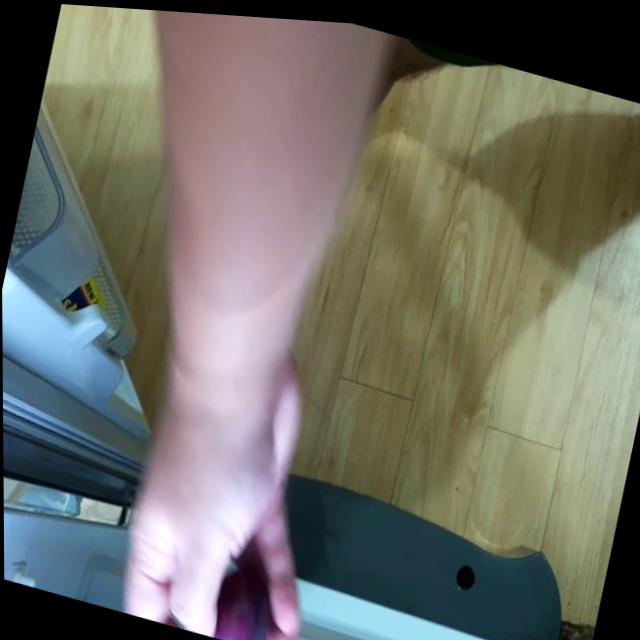onion: (198, 550, 283, 640)
